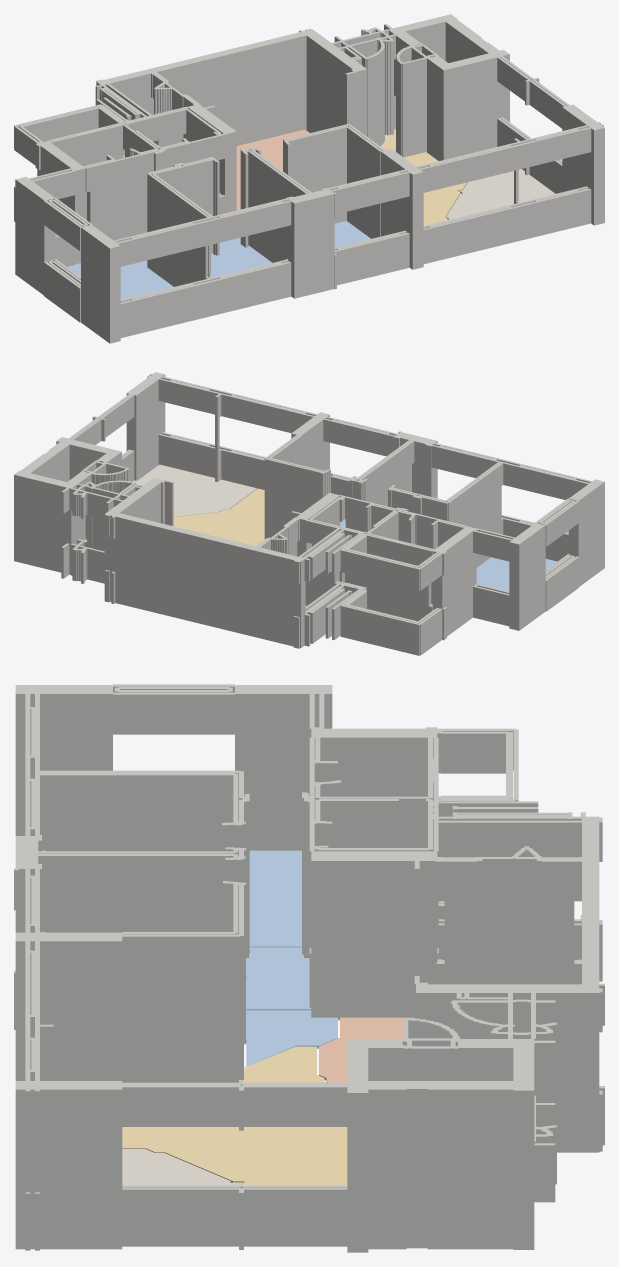
The picture shows the model from 3 angles, top to bottom: view 1: azimuth 30°, elevation 25°; view 2: azimuth 150°, elevation 25°; view 3: azimuth 270°, elevation 25°; orthographic projection. The views are drawn at different scales.
Visible parts, largest first — view 1: walls, room:other:8, room:living:5, room:bedroom:7, room:bedroom:6, room:kitchen:2, room:bedroom:9; view 2: walls, room:other:8, room:living:5, room:bedroom:6; view 3: walls, room:living:5, room:bedroom:6, room:bedroom:7, room:bedroom:9, room:other:8, room:kitchen:2.
Part boxes in pixels (box(x1,y1,x2,y2)): walls: box(14, 14, 604, 343); room:other:8: box(446, 169, 555, 219); room:living:5: box(380, 129, 467, 225); room:bedroom:7: box(211, 237, 272, 277); room:bedroom:6: box(67, 260, 173, 299); room:kitchen:2: box(236, 129, 309, 210); room:bedroom:9: box(334, 221, 370, 247); walls: box(14, 372, 604, 655); room:other:8: box(132, 464, 256, 516); room:living:5: box(173, 488, 264, 546); room:bedroom:6: box(476, 557, 556, 591); walls: box(14, 684, 604, 1252); room:living:5: box(122, 1046, 347, 1185); room:bedroom:6: box(42, 850, 301, 947); room:bedroom:7: box(40, 932, 311, 1010); room:bedroom:9: box(246, 1010, 337, 1066); room:other:8: box(122, 1149, 238, 1185); room:kitchen:2: box(319, 1017, 414, 1082).
Size of the model in its own units: 15.38 by 2.8 by 9.4.
